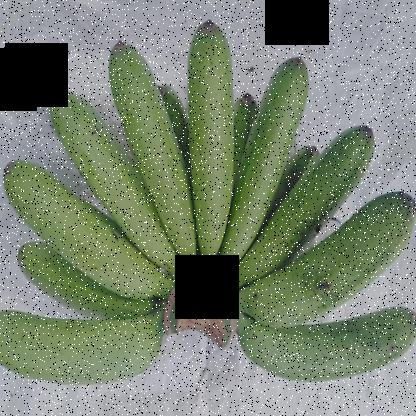unripe: (247, 193, 415, 359), (32, 94, 170, 284), (97, 31, 193, 248), (183, 1, 256, 278), (0, 302, 169, 411), (224, 311, 416, 402)
